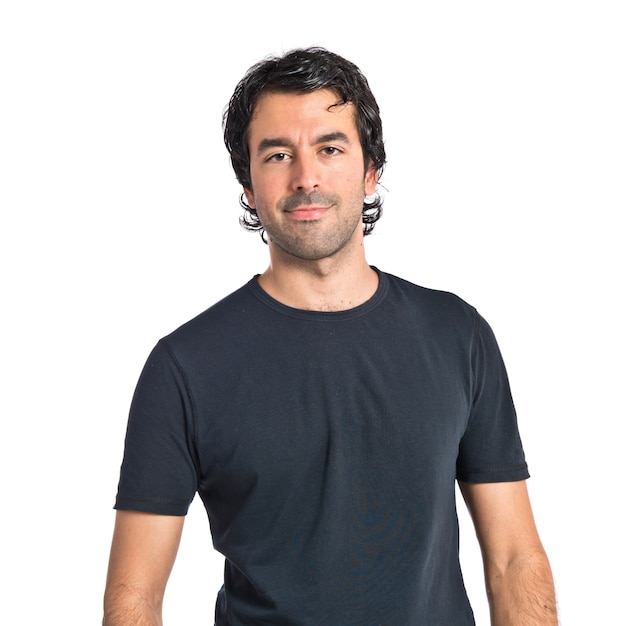young: (207, 40, 404, 286)
